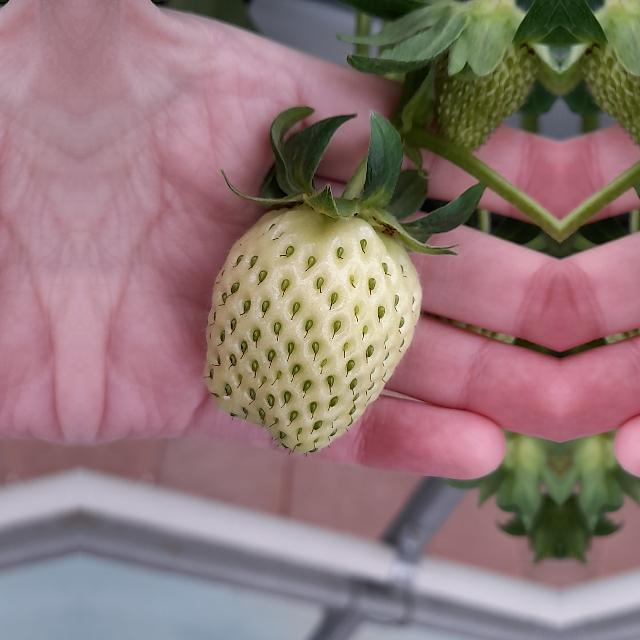Health_25: (205, 203, 422, 452), (429, 35, 536, 151), (583, 35, 640, 151)
